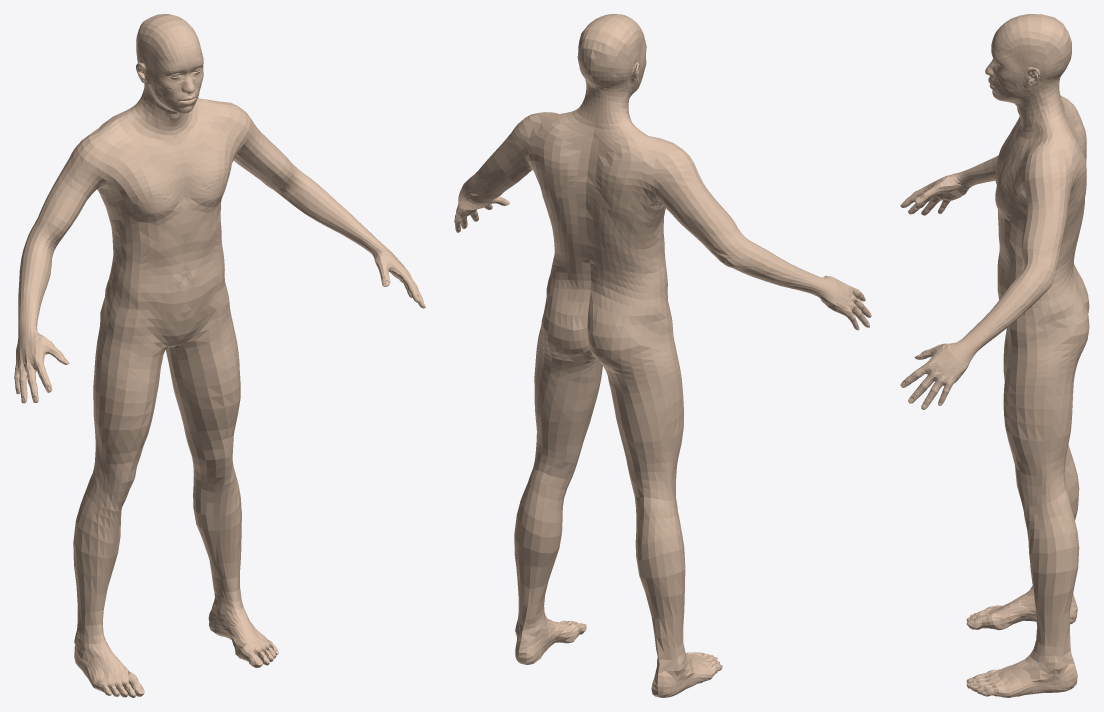
File: male-adult-average-strong.glb
3 views of the same model, side by side, from view 1: azimuth 30°, elevation 25°; view 2: azimuth 150°, elevation 25°; view 3: azimuth 270°, elevation 25° (orthographic).
Parts seen in each view (by area): view 1: world; view 2: world; view 3: world.
Part boxes in pixels (bbox=[...]): world: bbox=[14, 14, 425, 697]; world: bbox=[454, 14, 871, 697]; world: bbox=[900, 14, 1089, 697].
Size of the model in its own units: 1.28 by 1.95 by 0.5208.
